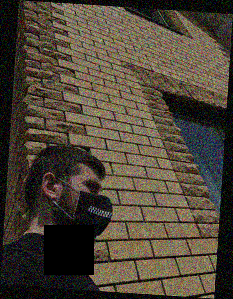with_mask: (70, 171, 113, 247)
